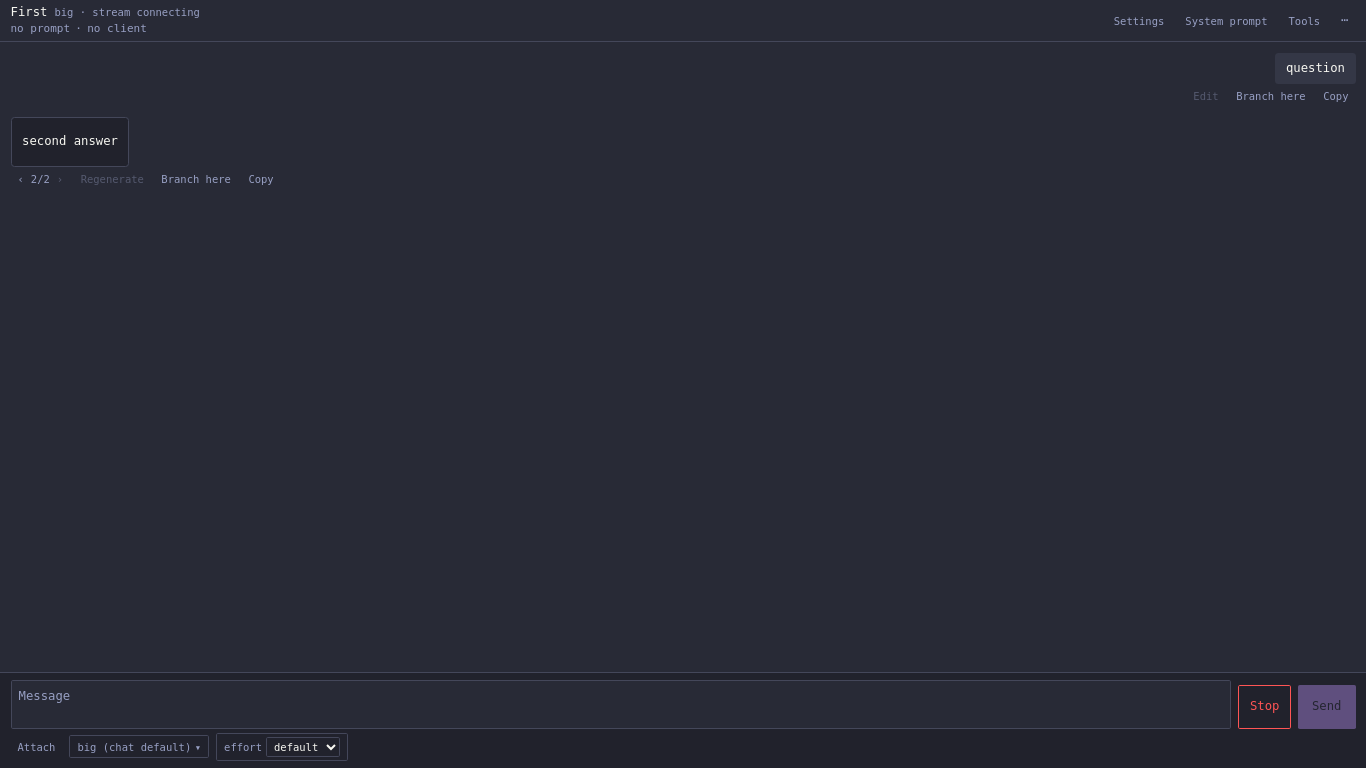
ChatThread › queues a message sent while a run is active instead of posting it right away
Expected: the text "second answer" is shown, [22,132,118,152]
Expected: the button "Stop" is shown, [1238,685,1291,729]
Type "queued one" into the text box labelled "Message".
click(621, 704); type("queued one")  # box [10,680,1232,729]
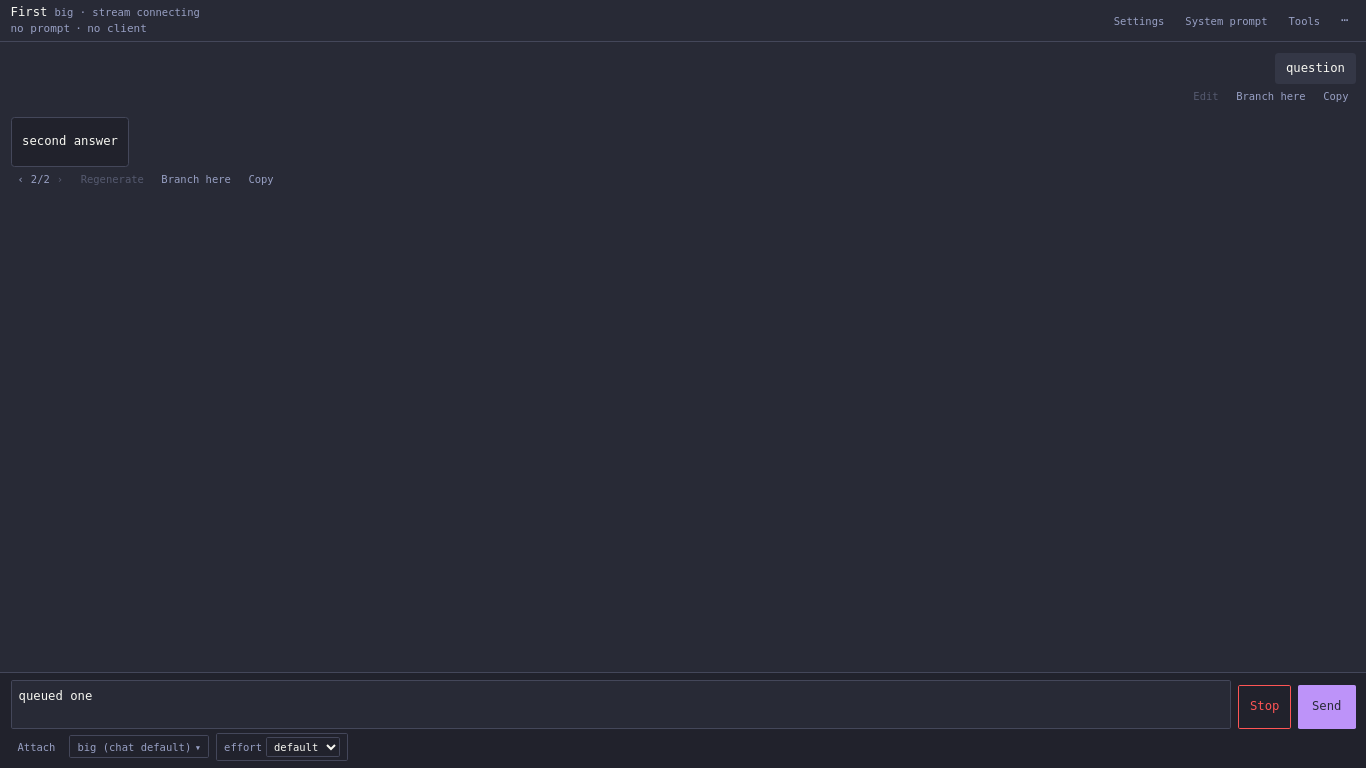
Click the button "Send".
click(1327, 707)  # box [1298,685,1356,729]
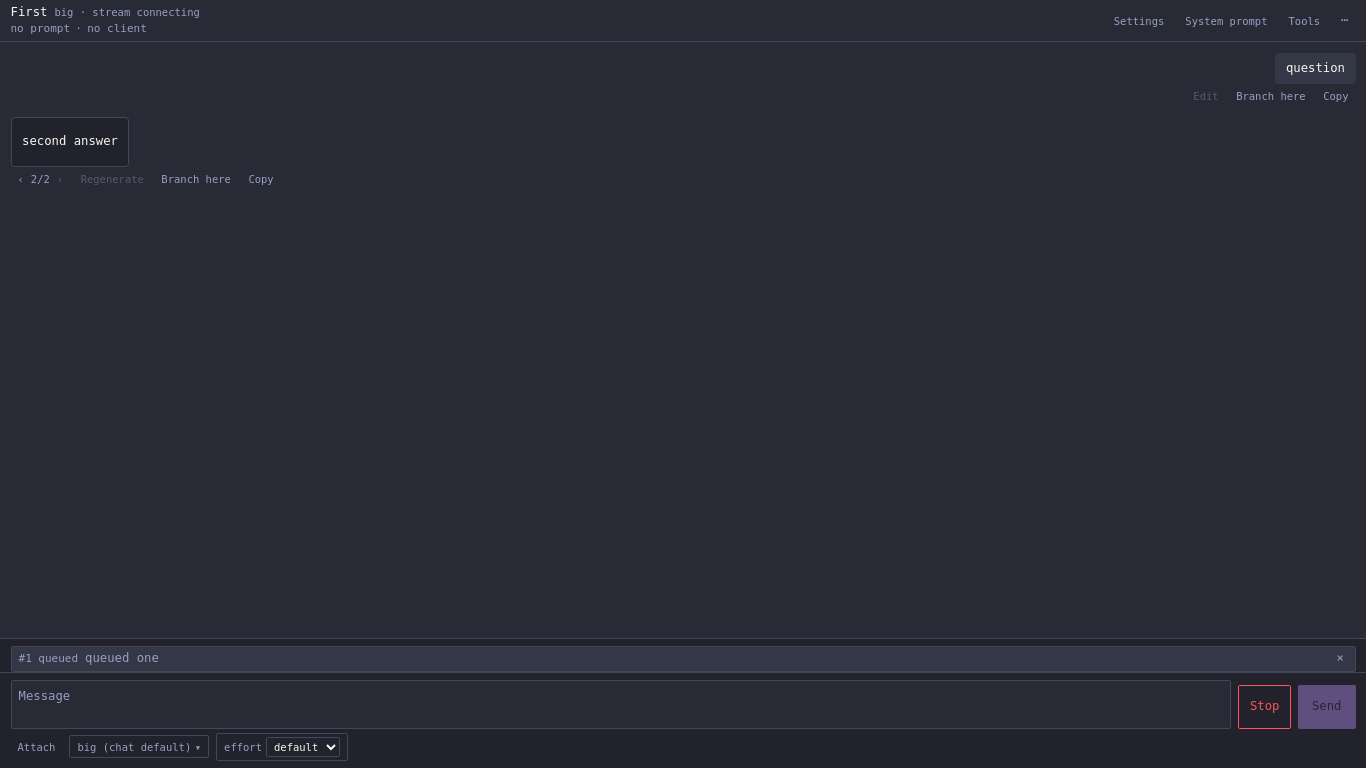
Expected: the list with test id "message-queue" is shown, [0,638,1365,672]
Expected: the button "queued one" is shown, [85,650,1326,668]
Expected: the text box labelled "Message" is empty, [10,680,1232,729]
# Removing it before it is ever sent drops it for good.
Click the button named "remove queued message".
click(1340, 659)  # box [1333,650,1348,668]
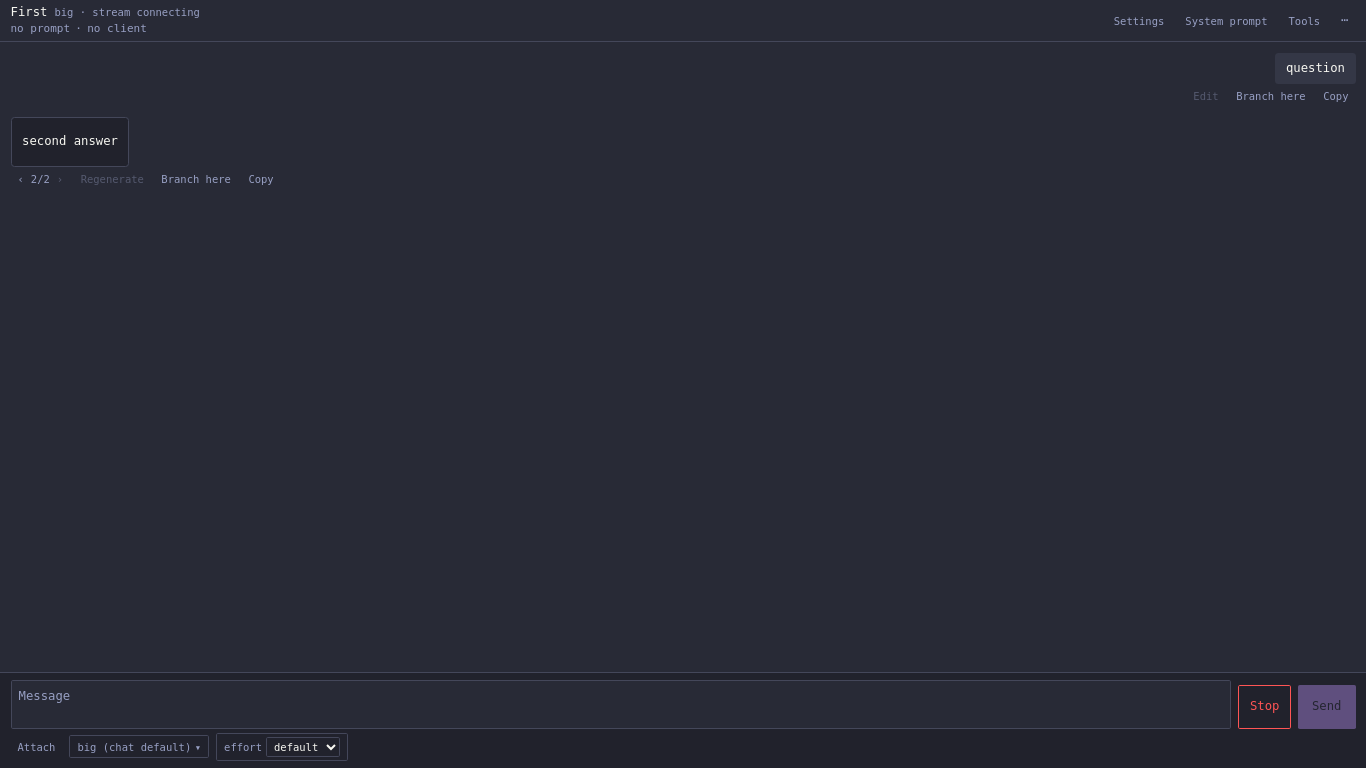
Expected: the list with test id "message-queue" is gone
